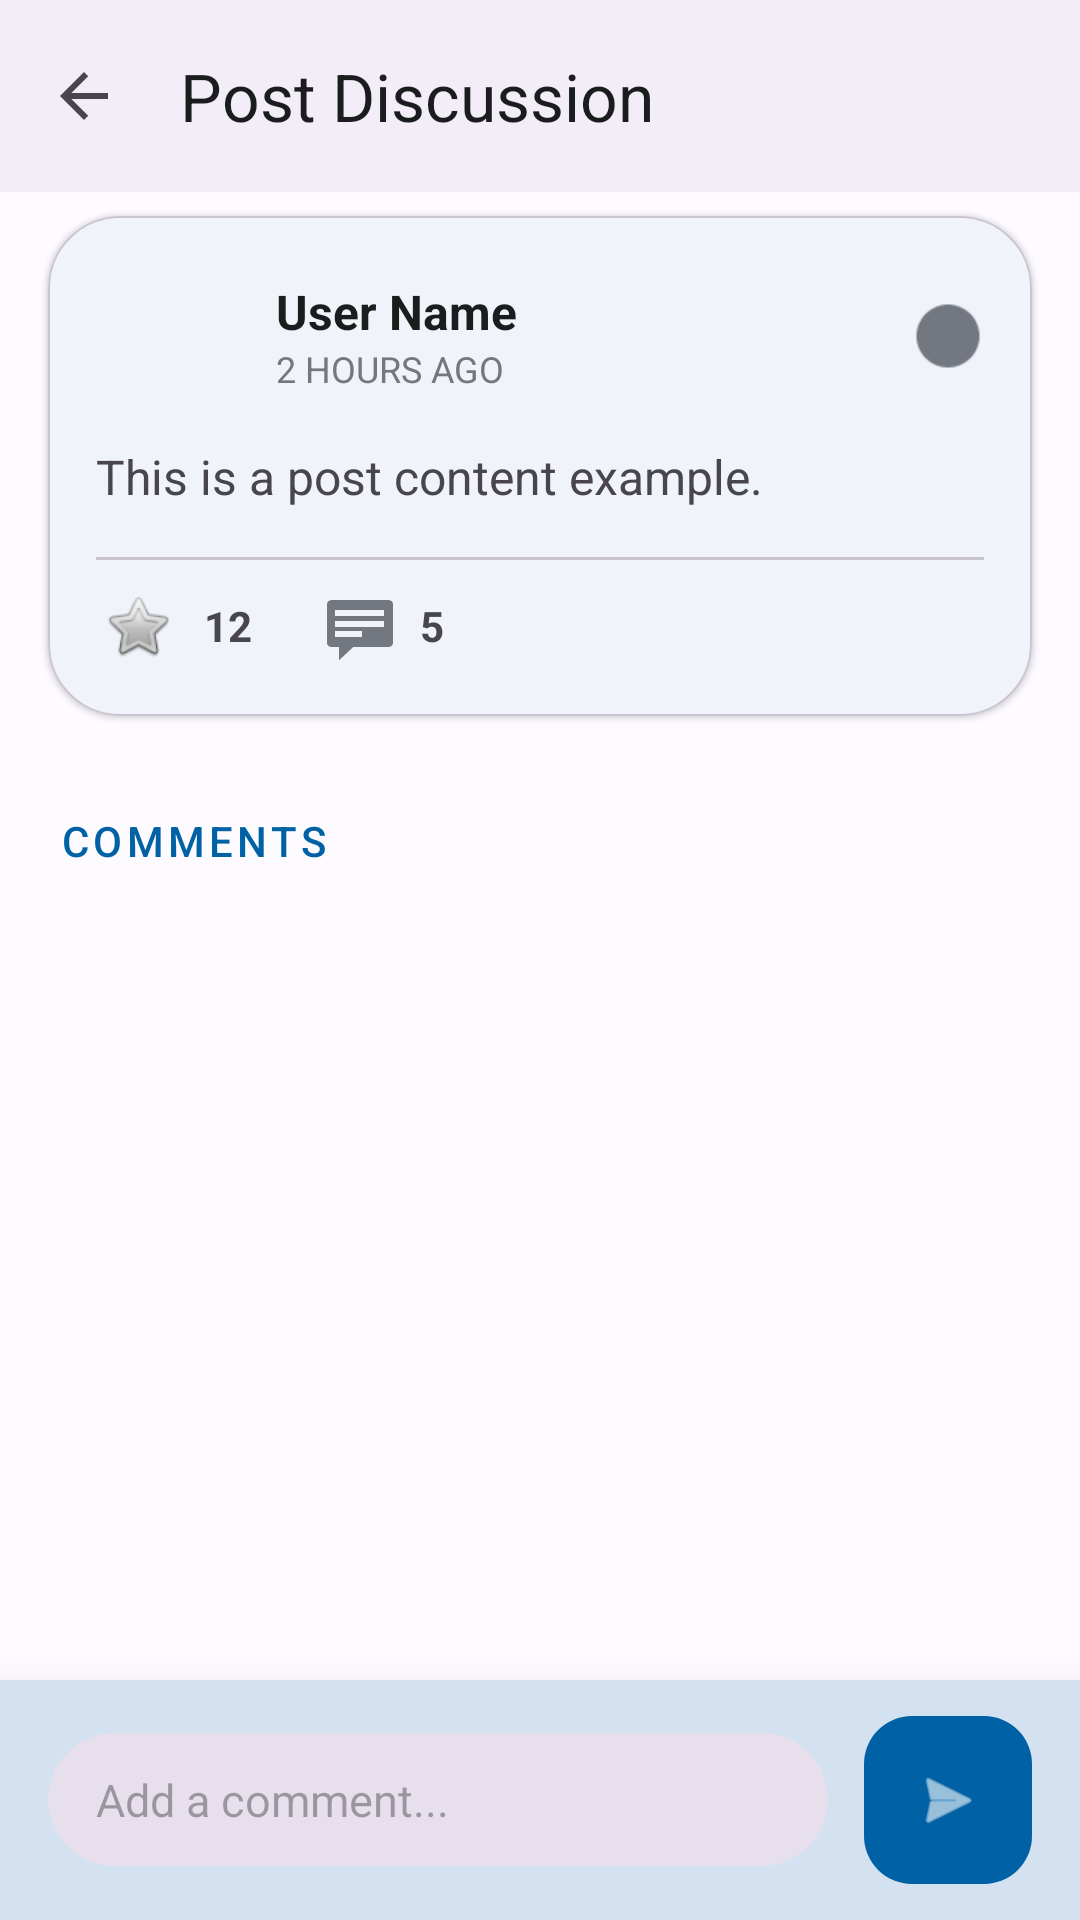

Icons on this 1080px×1920px Android screen, each with its box as rect(x1, y1, x2, y2):
chat: rect(327, 600, 393, 660)
presence offline: rect(916, 304, 980, 368)
send: rect(864, 1716, 1032, 1884)
star off: rect(109, 597, 169, 656)
